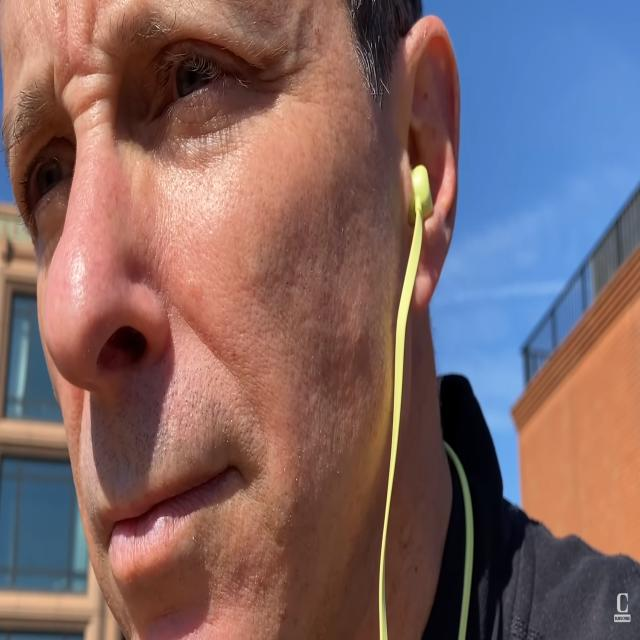Neckband: (377, 163, 475, 640)
